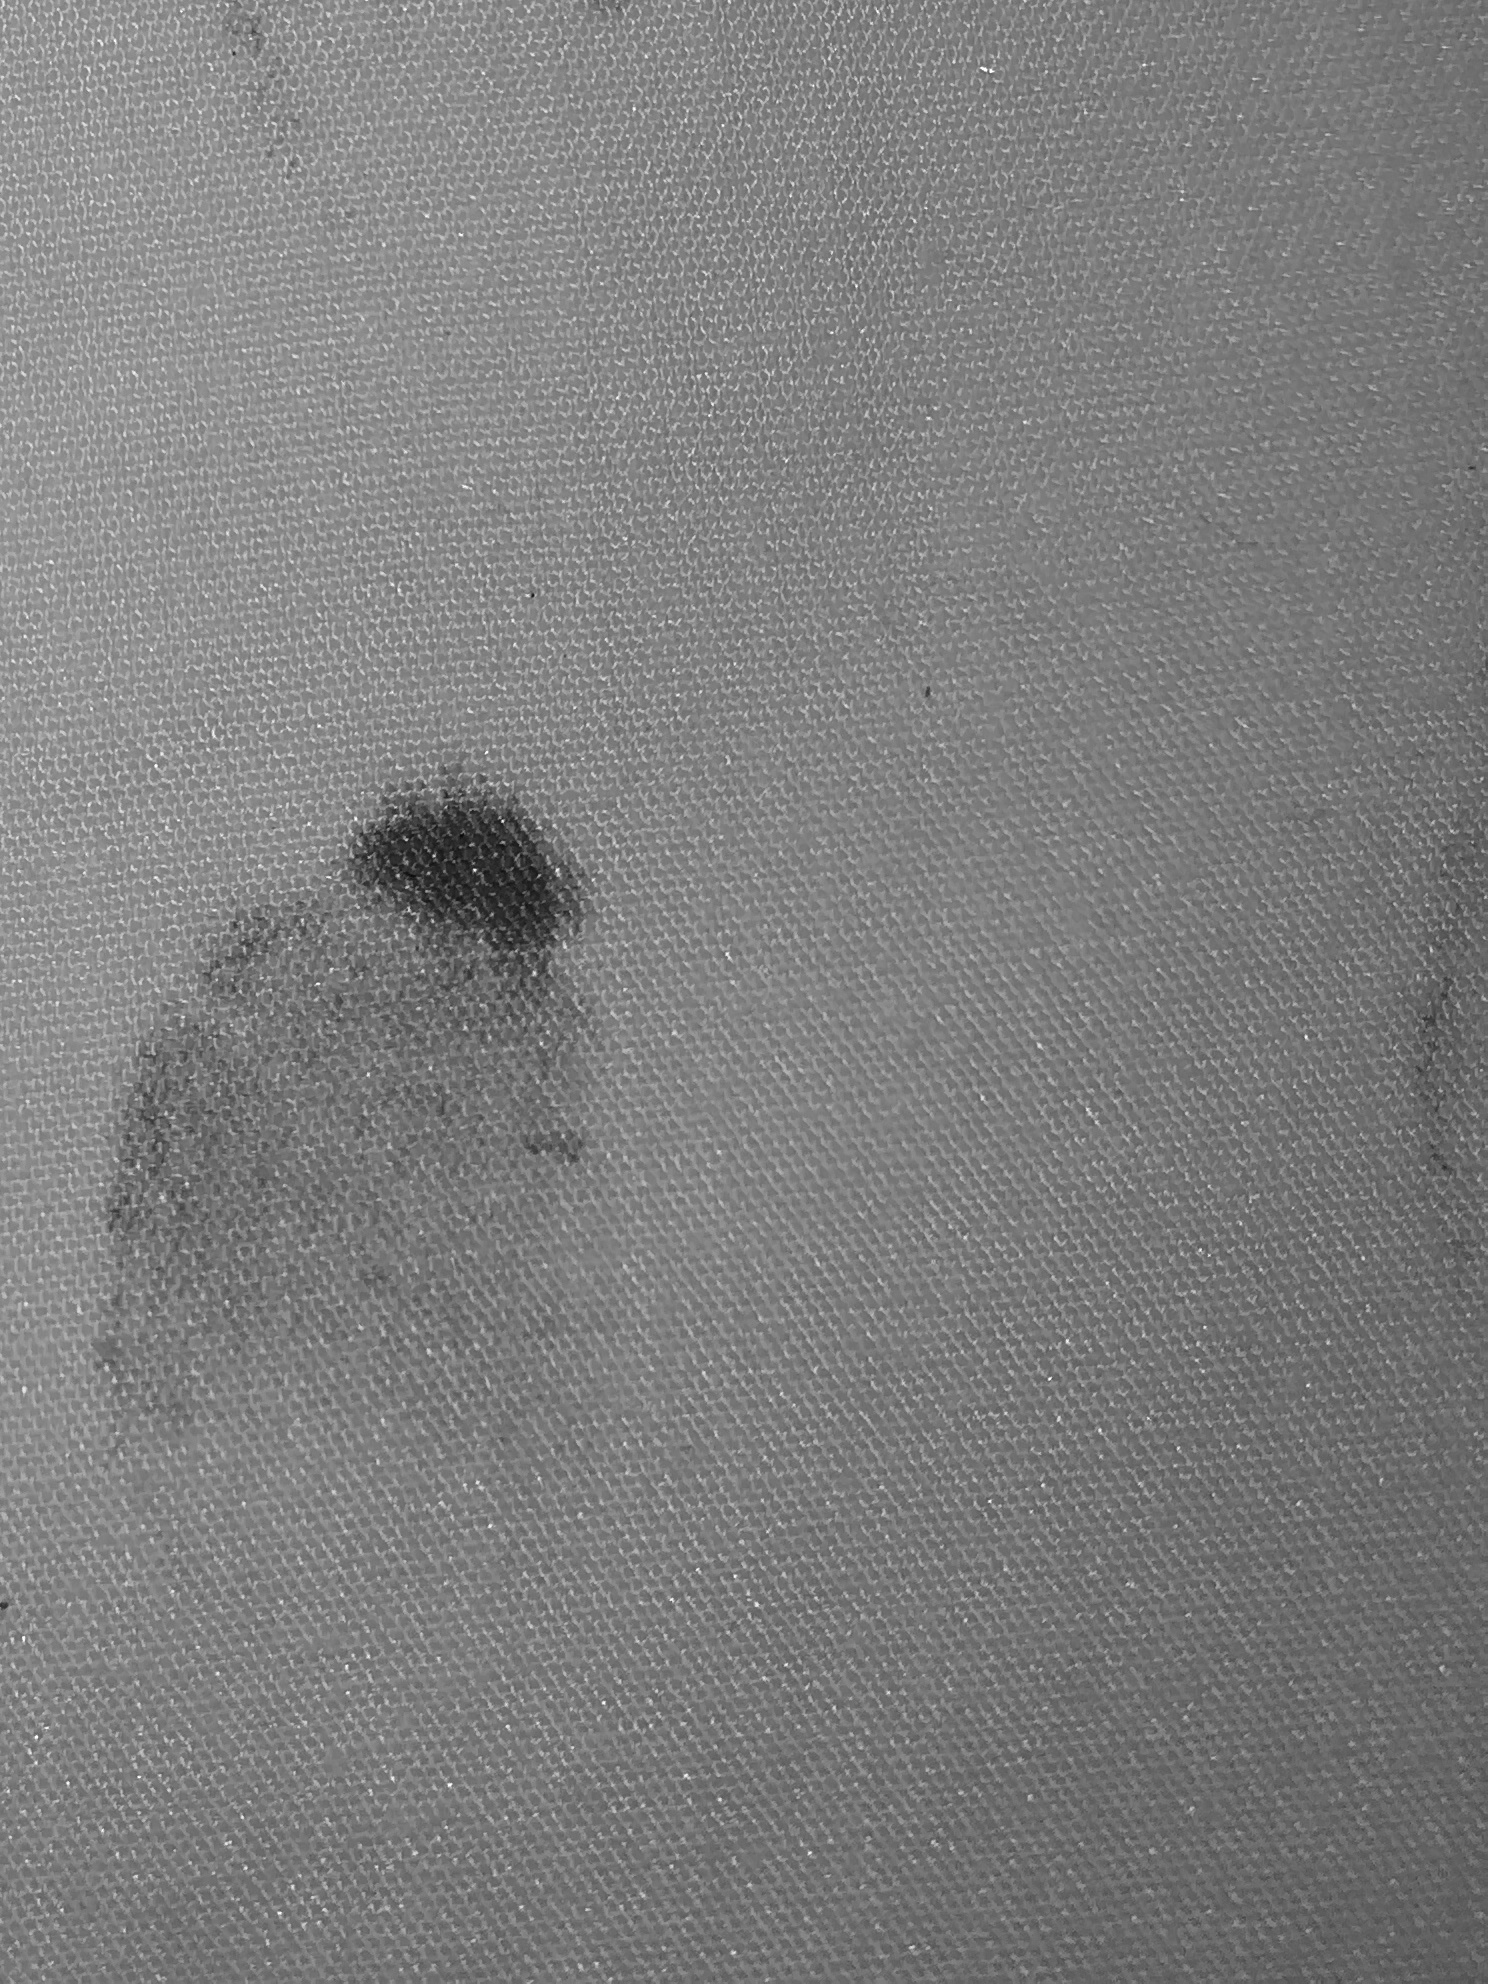Stain: (34, 653, 792, 1565), (1289, 651, 1488, 1347)
